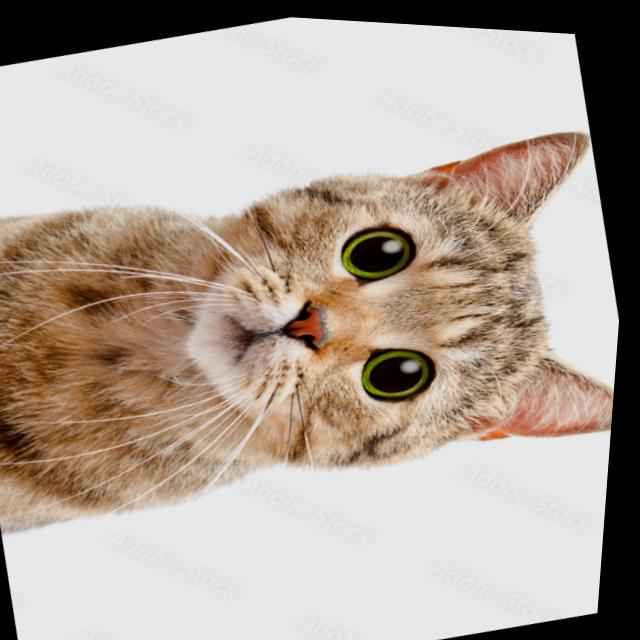Scottish Fold: (0, 72, 636, 568)
